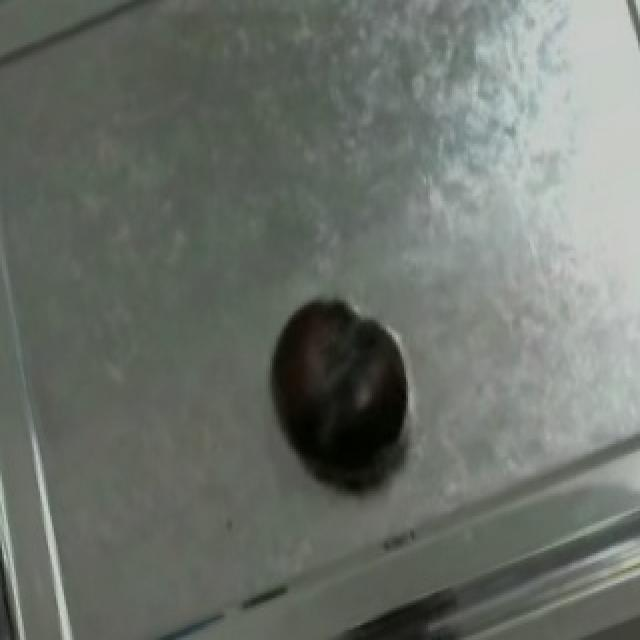Fruit: (252, 283, 420, 486)
